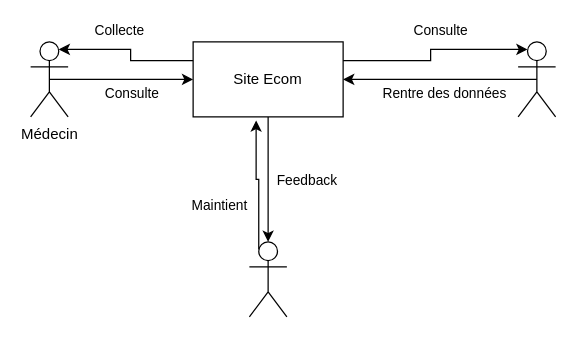
Image size: 588x364. Some labels were removed from this diagram. Each missing label, with the box of its shape:
Admin: (248, 241, 287, 317)
Soignant: (517, 41, 556, 117)
